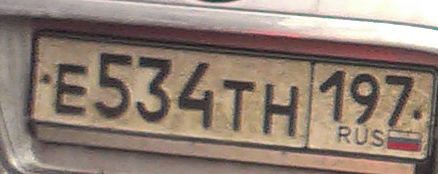character: (178, 61, 219, 133), (136, 55, 173, 126), (220, 74, 260, 137), (260, 81, 300, 143), (97, 51, 134, 118), (56, 59, 92, 120), (350, 68, 383, 127), (383, 70, 414, 131), (320, 65, 350, 120)
